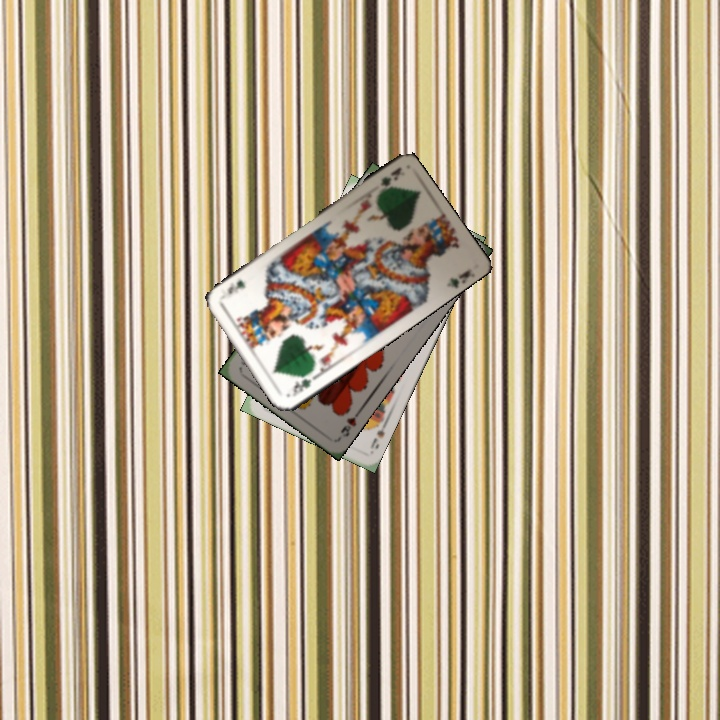GK: (288, 370, 321, 399), (376, 163, 404, 189)
H9: (336, 406, 364, 440)
S9: (366, 415, 391, 452)
